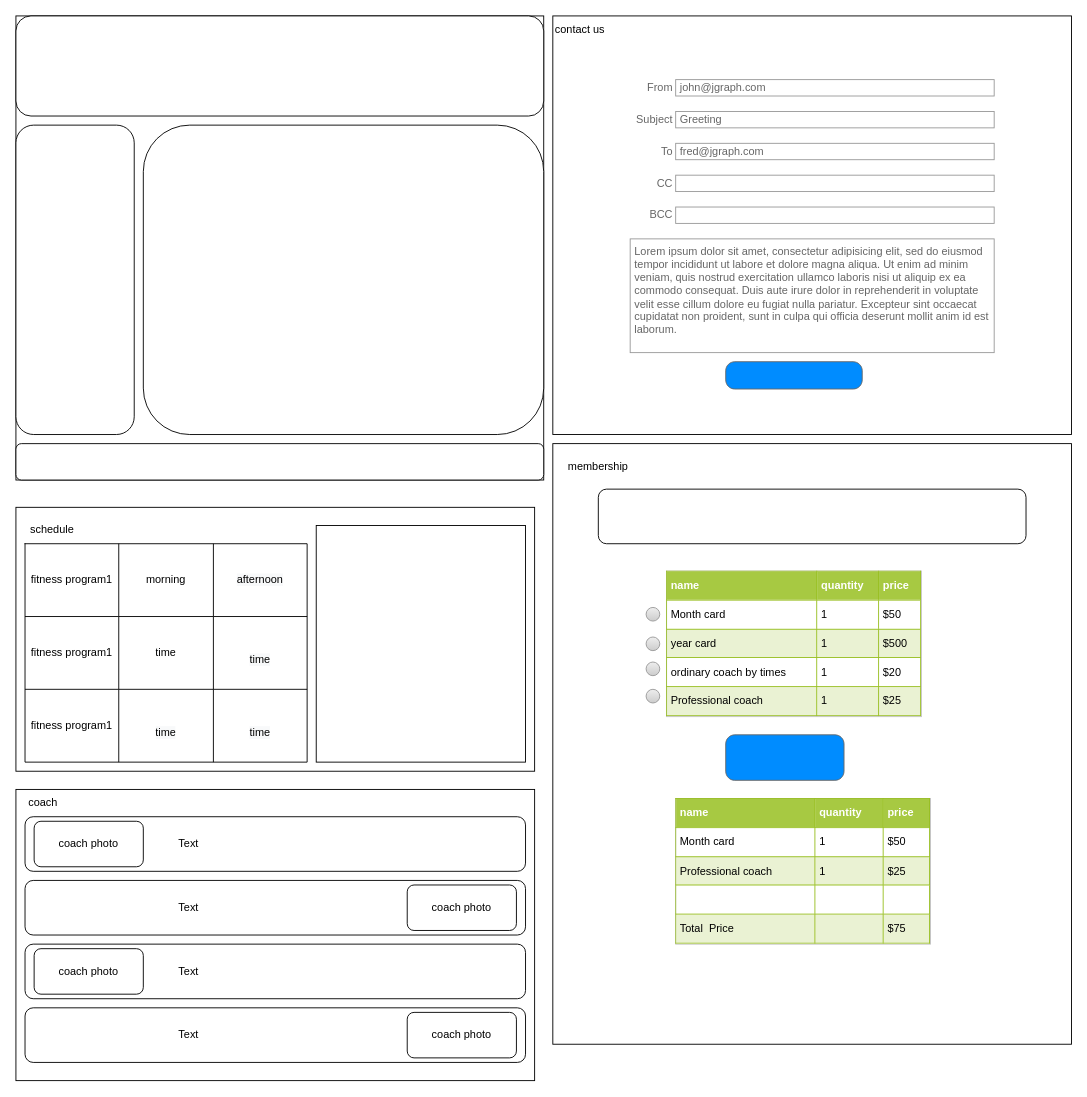
Some shapes in this 1087 by 1097 pixel diagram are drawn without their labels. Here are the shapes that lost their labels. From the top down, the centre of each, then its label:
At (279,65): "head".
At (74,279): "nav".
At (343,279): "main".
At (793,371): "Main Text".
At (279,461): "foot".
At (811,516): "membership introduction".
At (420,643): "fitness room photo".
At (784,757): "Add".
